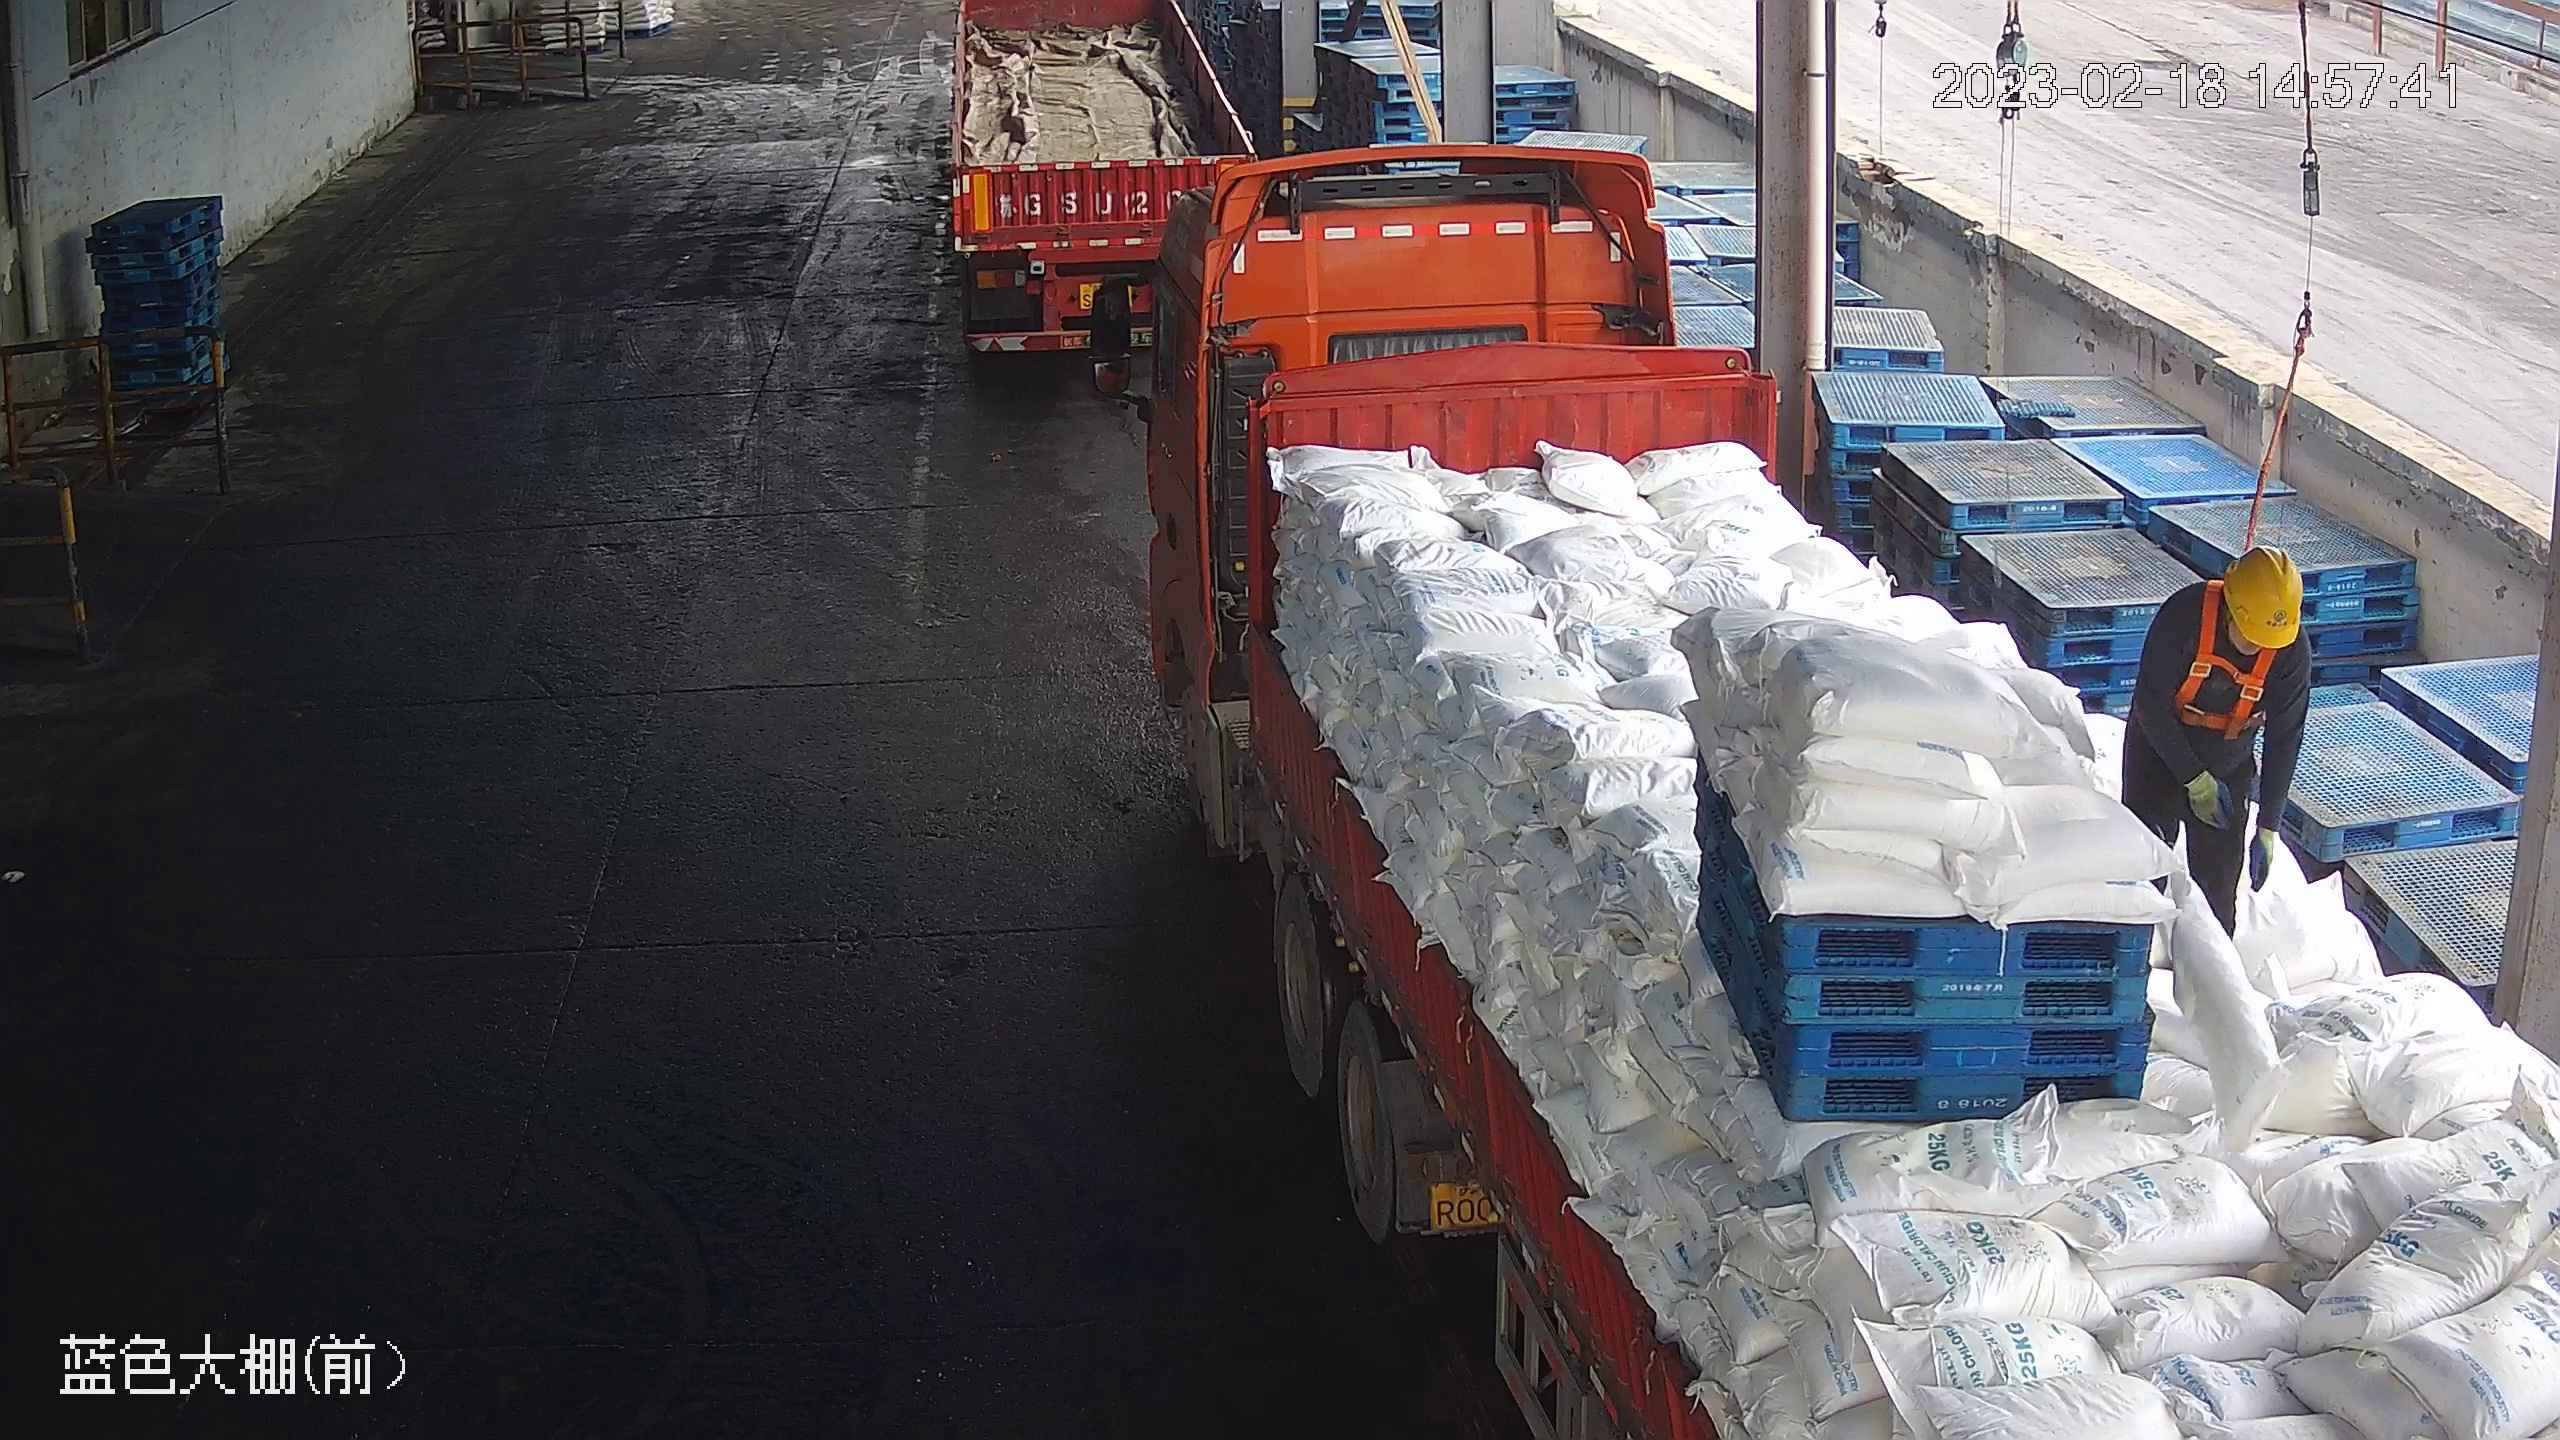belt: (2180, 603, 2274, 733)
head: (2149, 543, 2309, 677)
helmet: (2220, 544, 2308, 647)
people: (2121, 545, 2314, 947)
truck: (1126, 156, 2558, 1439), (920, 1, 1262, 352)
